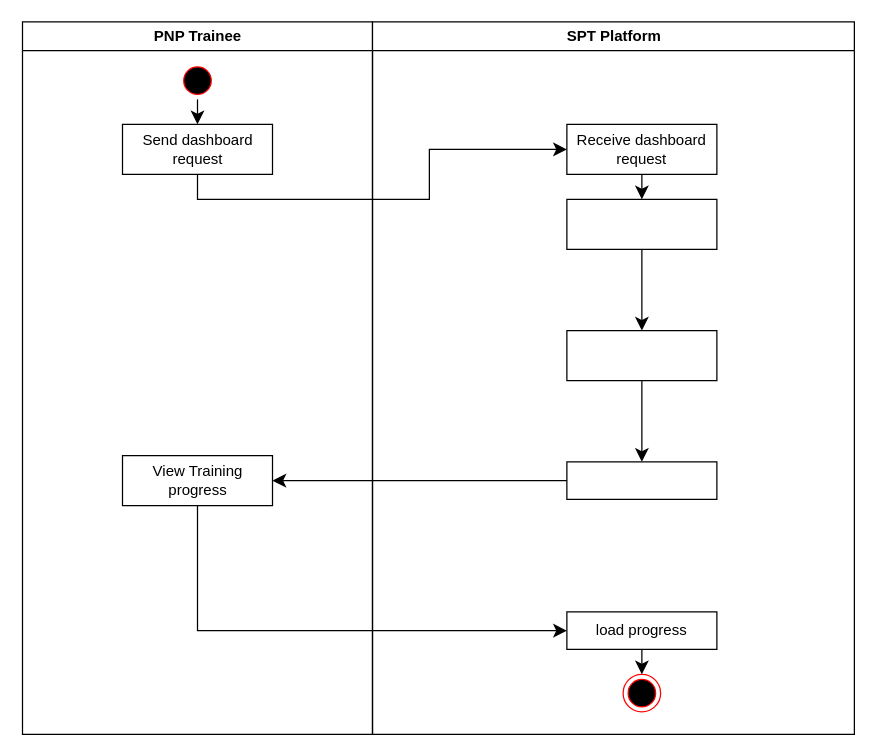
This 876x756 diagram has some shape labels left out. Here are the shapes that lost their labels. From the top down, the centre of each, then its label:
[641,223]: Validate role access
[641,355]: Load trainee own progress data
[641,480]: Display own progress tabs
